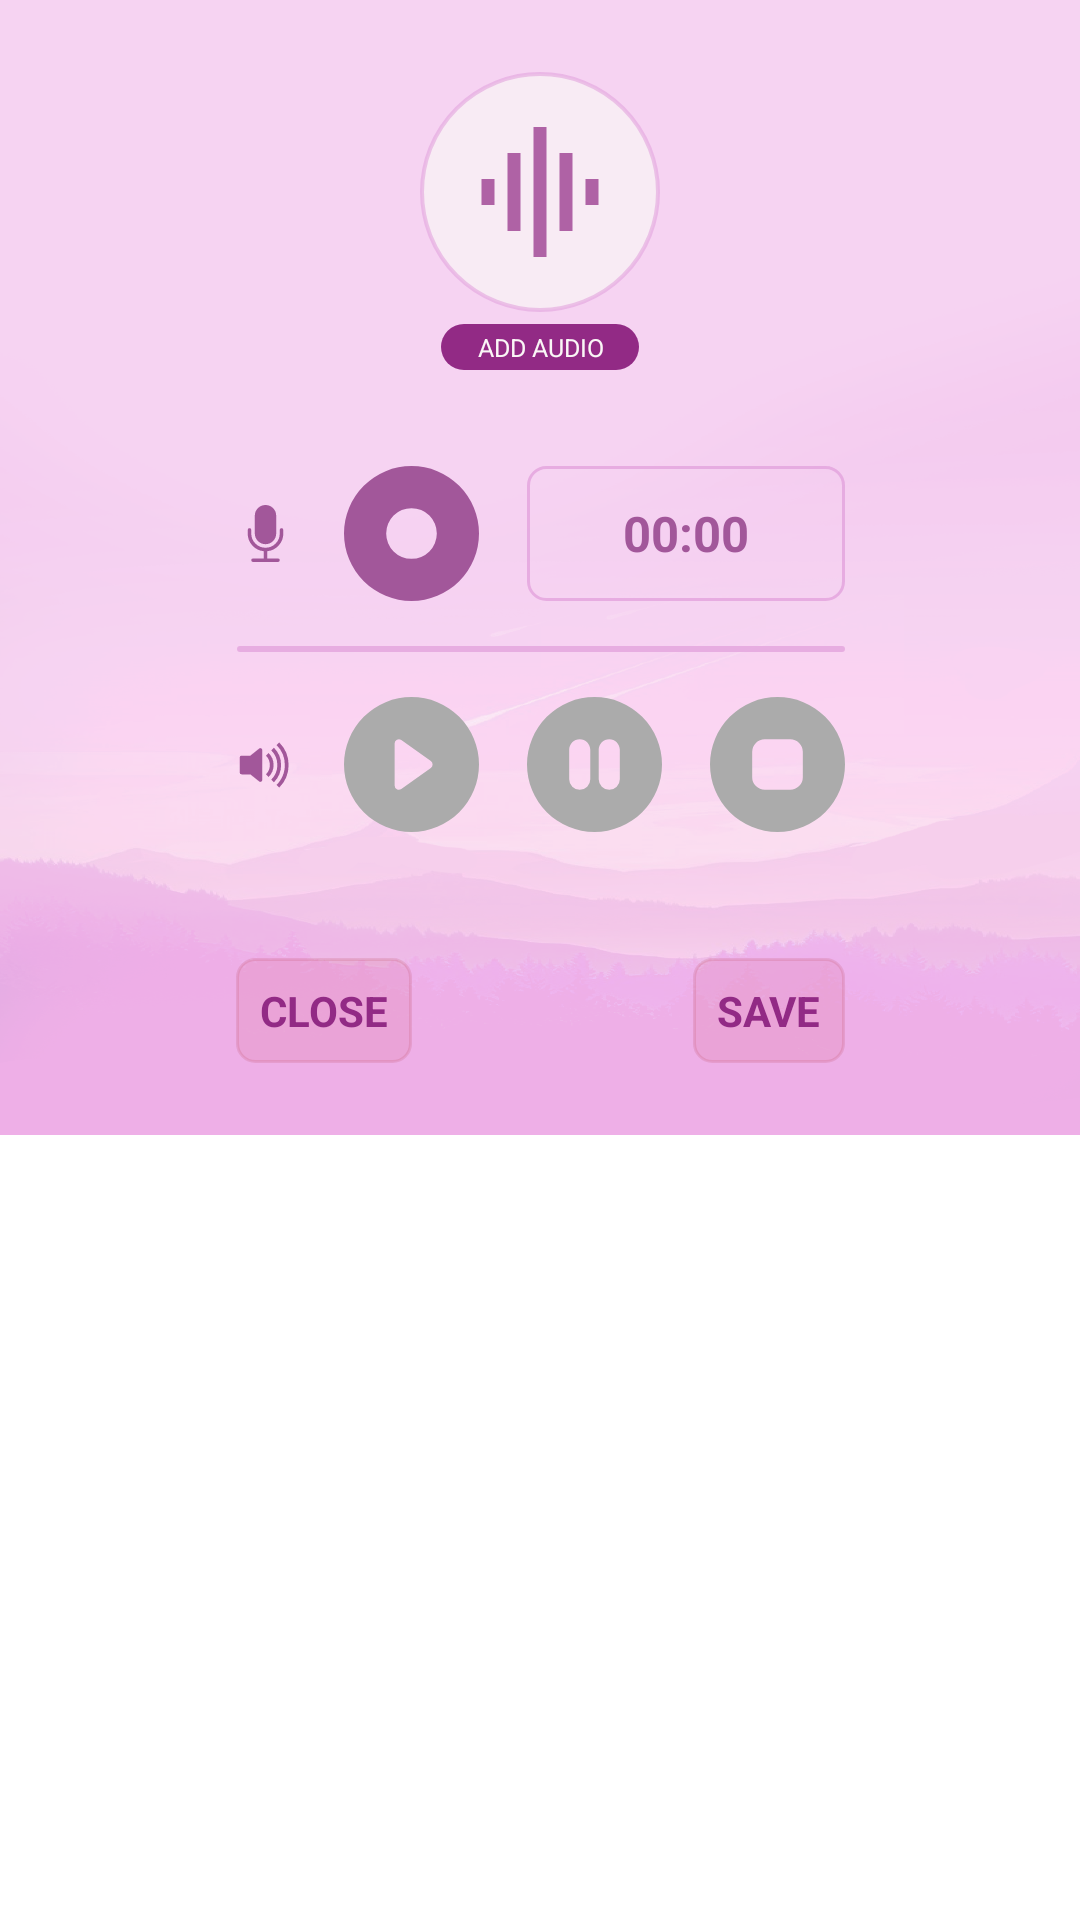

Icon bounding boxes for this 1080×1920 phone screenshot, format rect(x1, y1, x2, y2):
mic: rect(247, 505, 284, 562)
pause circle: rect(527, 697, 662, 832)
play circle: rect(344, 697, 479, 832)
record circle: rect(344, 466, 479, 601)
sound player: rect(239, 742, 289, 788)
stop circle: rect(710, 697, 845, 832)
